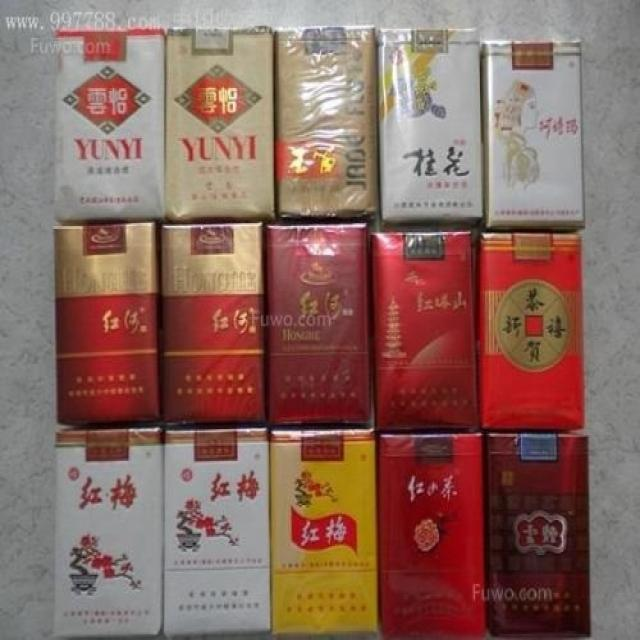box: (52, 426, 163, 640), (269, 429, 379, 640), (161, 428, 270, 638), (165, 26, 279, 226), (376, 431, 485, 640), (160, 221, 269, 429), (54, 27, 166, 227), (264, 223, 372, 429), (51, 226, 161, 426), (475, 234, 586, 432), (370, 231, 479, 432), (376, 29, 483, 232), (485, 434, 590, 637), (273, 27, 379, 224), (480, 39, 586, 231)
